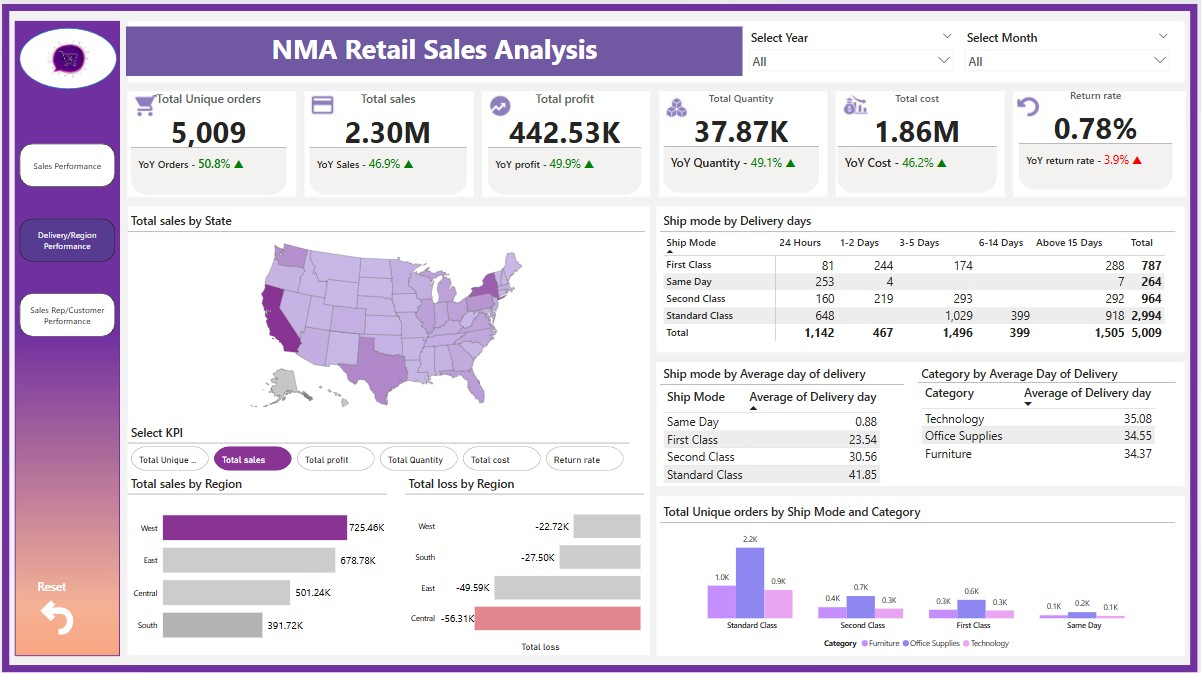

What the dashboard file says about the page in this screenshot:
{"tool":"powerbi","page":{"name":"Delivery/Region Performance","canvas":[1920,1080],"ordinal":1},"visuals":[{"type":"pivotTable","title":"Ship mode by Delivery days","fields":{"Rows":["Dim_Shipmode.Ship Mode"],"Columns":["Fact_table.Delivery days bucket"],"Values":["_measures.Total Unique orders"]},"box":[1060.3,346.3,820.3,221.8],"z":0},{"type":"tableEx","title":"Category by Average Day of Delivery","fields":{"Values":["Dim_Products.Category","Avg(Fact_table.Delivery day)"]},"box":[1470.4,589.4,410.1,188.4],"z":1000},{"type":"tableEx","title":"Ship mode by Average day of delivery","fields":{"Values":["Dim_Shipmode.Ship Mode","Avg(Fact_table.Delivery day)"]},"box":[1060.3,589.4,388.9,218.7],"z":2000},{"type":"cardVisual","fields":{"Data":["_measures.Total Unique orders"]},"box":[212.7,151.9,258.2,170.1],"z":3000},{"type":"cardVisual","fields":{"Data":["_measures.Total sales"]},"box":[495.2,151.9,261.3,170.1],"z":4000},{"type":"cardVisual","fields":{"Data":["_measures.Total profit"]},"box":[780.8,151.9,255.2,170.1],"z":5000},{"type":"cardVisual","fields":{"Data":["_measures.Total Quantity"]},"box":[1060.3,151.9,258.2,167.1],"z":6000},{"type":"cardVisual","fields":{"Data":["_measures.Total cost"]},"box":[1336.7,151.9,264.3,167.1],"z":7000},{"type":"shapeMap","fields":{"Value":["_measures.Total sales"],"Category":["Dim_Location.State"]},"box":[212.7,346.3,823.3,328.1],"z":9000},{"type":"clusteredBarChart","fields":{"Y":["_measures.Total sales"],"Category":["Dim_Location.Region"]},"box":[212.7,762.5,413.2,285.6],"z":10000},{"type":"advancedSlicerVisual","title":"Select KPI","fields":{"Values":["KPI.KPI"]},"box":[212.7,683.5,799,79],"z":11000},{"type":"clusteredColumnChart","fields":{"Y":["_measures.Total Unique orders"],"Category":["Dim_Shipmode.Ship Mode"],"Series":["Dim_Products.Category"]},"box":[1060.3,808.1,820.3,240],"z":12000},{"type":"clusteredBarChart","fields":{"Y":["_measures.Total loss"],"Category":["Dim_Location.Region"]},"box":[653.2,762.5,379.7,285.6],"z":13000},{"type":"slicer","fields":{"Values":["dim_Date.Year"]},"box":[1212.2,48.6,343.3,82],"z":14000},{"type":"slicer","fields":{"Values":["dim_Date.Year"]},"box":[1191.3,50.6,345.5,80.4],"z":15000},{"type":"slicer","fields":{"Values":["dim_Date.Month Name"]},"box":[1533.8,50.6,345.5,83.4],"z":16000},{"type":"textbox","box":[211,49.7,980.7,78.6],"z":17000},{"type":"actionButton","title":"Reset","box":[69.2,928.1,100.2,93.1],"z":19000},{"type":"pageNavigator","box":[40.6,236.2,152.7,307.8],"z":19001},{"type":"shape","box":[39.5,51.6,154.9,97.2],"z":19002},{"type":"image","box":[69.9,60.8,100.3,82],"z":19003},{"type":"cardVisual","fields":{"Data":["_measures.Return rate"]},"box":[1624.8,147.9,255.3,167],"z":19004}]}

Visuals, with their boxes in screenshot pixels (x1, y1, x2, y2), scaled from the page's 1920x1080 canvas onto the 1201x673 screenshot:
"Ship mode by Delivery days" pivotTable: {"x1": 663, "y1": 216, "x2": 1176, "y2": 354}
"Category by Average Day of Delivery" tableEx: {"x1": 920, "y1": 367, "x2": 1176, "y2": 485}
"Ship mode by Average day of delivery" tableEx: {"x1": 663, "y1": 367, "x2": 907, "y2": 504}
cardVisual - _measures.Total Unique orders: {"x1": 133, "y1": 95, "x2": 295, "y2": 201}
cardVisual - _measures.Total sales: {"x1": 310, "y1": 95, "x2": 473, "y2": 201}
cardVisual - _measures.Total profit: {"x1": 488, "y1": 95, "x2": 648, "y2": 201}
cardVisual - _measures.Total Quantity: {"x1": 663, "y1": 95, "x2": 825, "y2": 199}
cardVisual - _measures.Total cost: {"x1": 836, "y1": 95, "x2": 1001, "y2": 199}
shapeMap - _measures.Total sales x Dim_Location.State: {"x1": 133, "y1": 216, "x2": 648, "y2": 420}
clusteredBarChart - _measures.Total sales x Dim_Location.Region: {"x1": 133, "y1": 475, "x2": 392, "y2": 653}
"Select KPI" advancedSlicerVisual: {"x1": 133, "y1": 426, "x2": 633, "y2": 475}
clusteredColumnChart - _measures.Total Unique orders x Dim_Shipmode.Ship Mode: {"x1": 663, "y1": 504, "x2": 1176, "y2": 653}
clusteredBarChart - _measures.Total loss x Dim_Location.Region: {"x1": 409, "y1": 475, "x2": 646, "y2": 653}
slicer - dim_Date.Year: {"x1": 758, "y1": 30, "x2": 973, "y2": 81}
slicer - dim_Date.Year: {"x1": 745, "y1": 32, "x2": 961, "y2": 82}
slicer - dim_Date.Month Name: {"x1": 959, "y1": 32, "x2": 1176, "y2": 84}
textbox: {"x1": 132, "y1": 31, "x2": 745, "y2": 80}
"Reset" actionButton: {"x1": 43, "y1": 578, "x2": 106, "y2": 636}
pageNavigator: {"x1": 25, "y1": 147, "x2": 121, "y2": 339}
shape: {"x1": 25, "y1": 32, "x2": 122, "y2": 93}
image: {"x1": 44, "y1": 38, "x2": 106, "y2": 89}
cardVisual - _measures.Return rate: {"x1": 1016, "y1": 92, "x2": 1176, "y2": 196}
